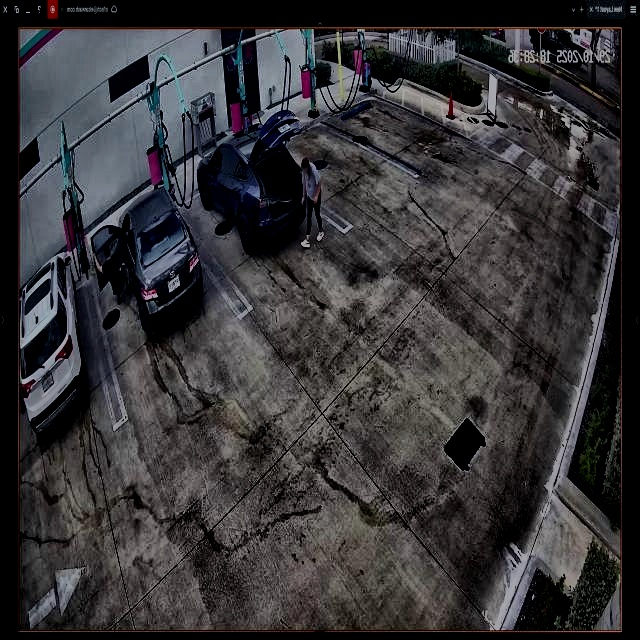Car: (197, 109, 304, 247), (96, 190, 202, 319)
